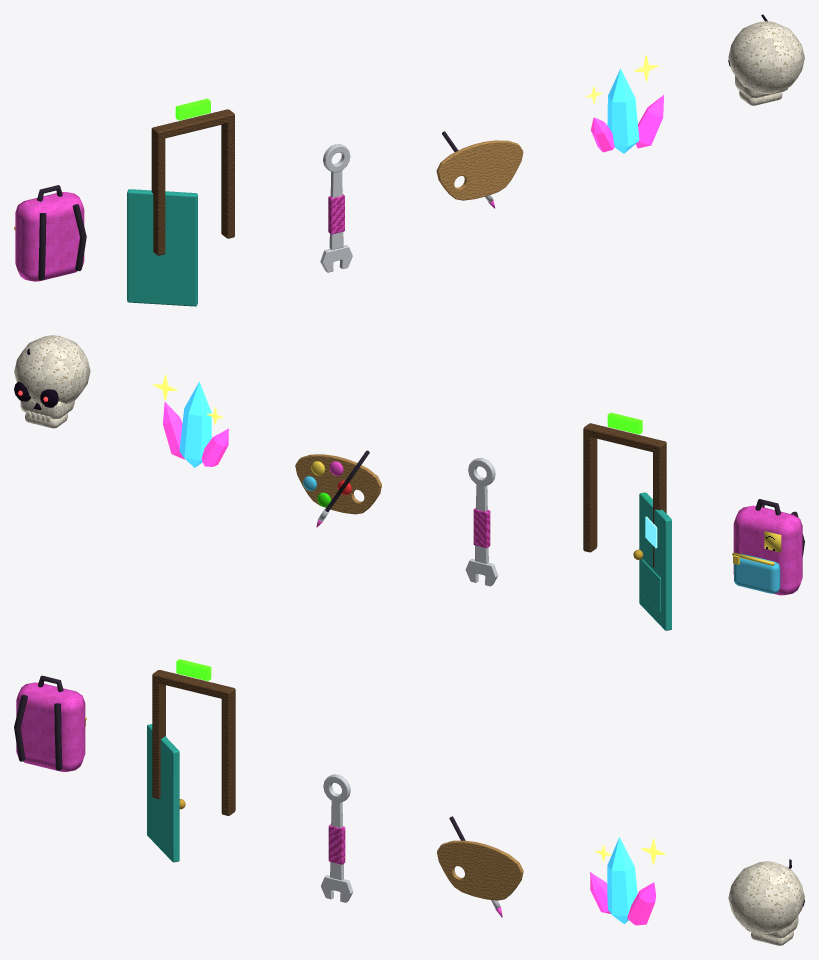
Rendered from x_uiicons.glb.
3 views of the same model, one above another, from view 1: azimuth 30°, elevation 25°; view 2: azimuth 150°, elevation 25°; view 3: azimuth 330°, elevation 25° (orthographic).
Parts seen in each view (by area): view 1: ui_door, ui_backpack, ui_skull, ui_palette, ui_crystal, ui_wrench; view 2: ui_door, ui_backpack, ui_skull, ui_palette, ui_crystal, ui_wrench; view 3: ui_door, ui_backpack, ui_skull, ui_palette, ui_crystal, ui_wrench.
Part boxes in pixels (box(x1,y1,x2,y2)): ui_door: box(127, 98, 234, 306); ui_backpack: box(14, 185, 86, 281); ui_skull: box(728, 14, 804, 105); ui_palette: box(436, 131, 523, 208); ui_crystal: box(585, 55, 663, 153); ui_wrench: box(320, 144, 352, 272); ui_door: box(583, 412, 671, 630); ui_backpack: box(732, 499, 804, 595); ui_skull: box(14, 335, 90, 428); ui_palette: box(295, 450, 381, 527); ui_crystal: box(152, 374, 228, 467); ui_wrench: box(465, 458, 497, 586); ui_door: box(147, 659, 235, 862); ui_backpack: box(14, 675, 86, 771); ui_skull: box(728, 859, 804, 945); ui_palette: box(437, 816, 523, 917); ui_crystal: box(590, 837, 665, 925); ui_wrench: box(321, 774, 353, 902).
Bounding box in the file's own units: 3.81 × 0.94 × 0.34.
Materials: 26 (6 with a texture image).
